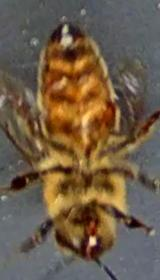varroa_mite: (100, 92, 120, 130)
